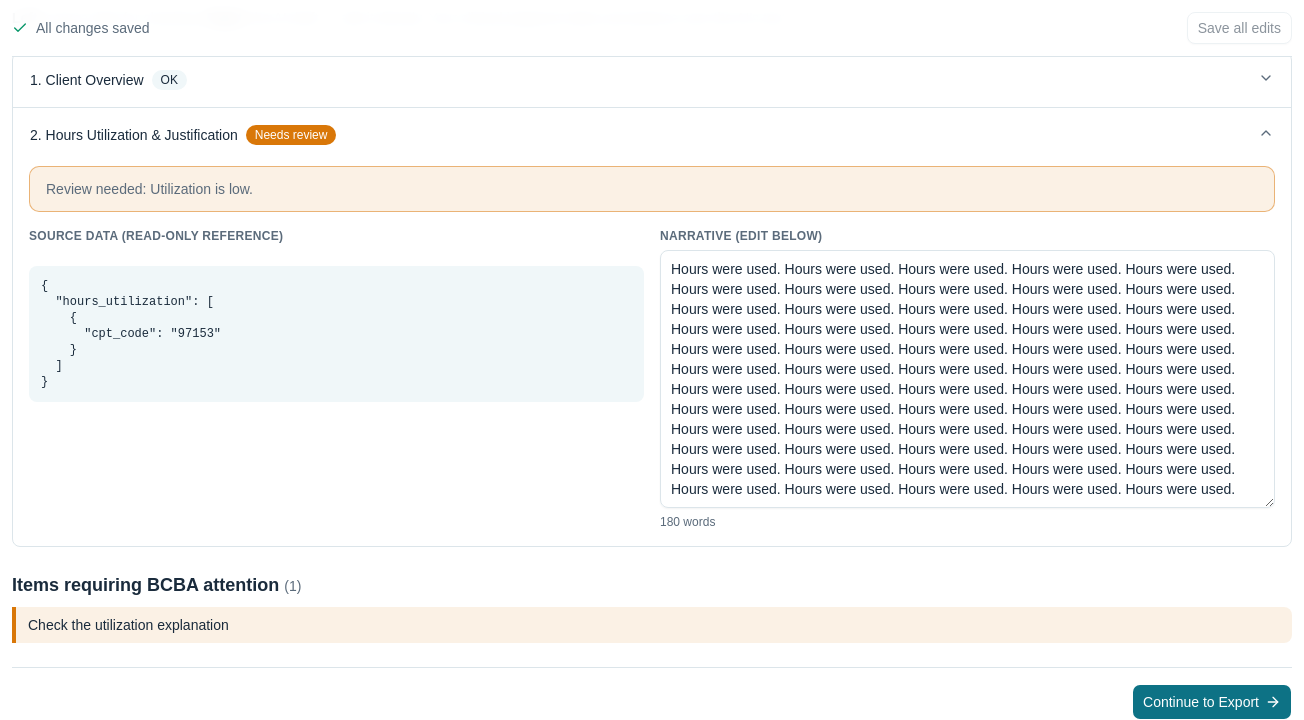
Generate page › saves edits to the narrative text automatically, all sections together
This screenshot has width=1304, height=720.
(page scrolled)
Step 1. Clear the text box named "Edit Hours Utilization & Justification" → point(968, 379), box [660,250,1275,508]
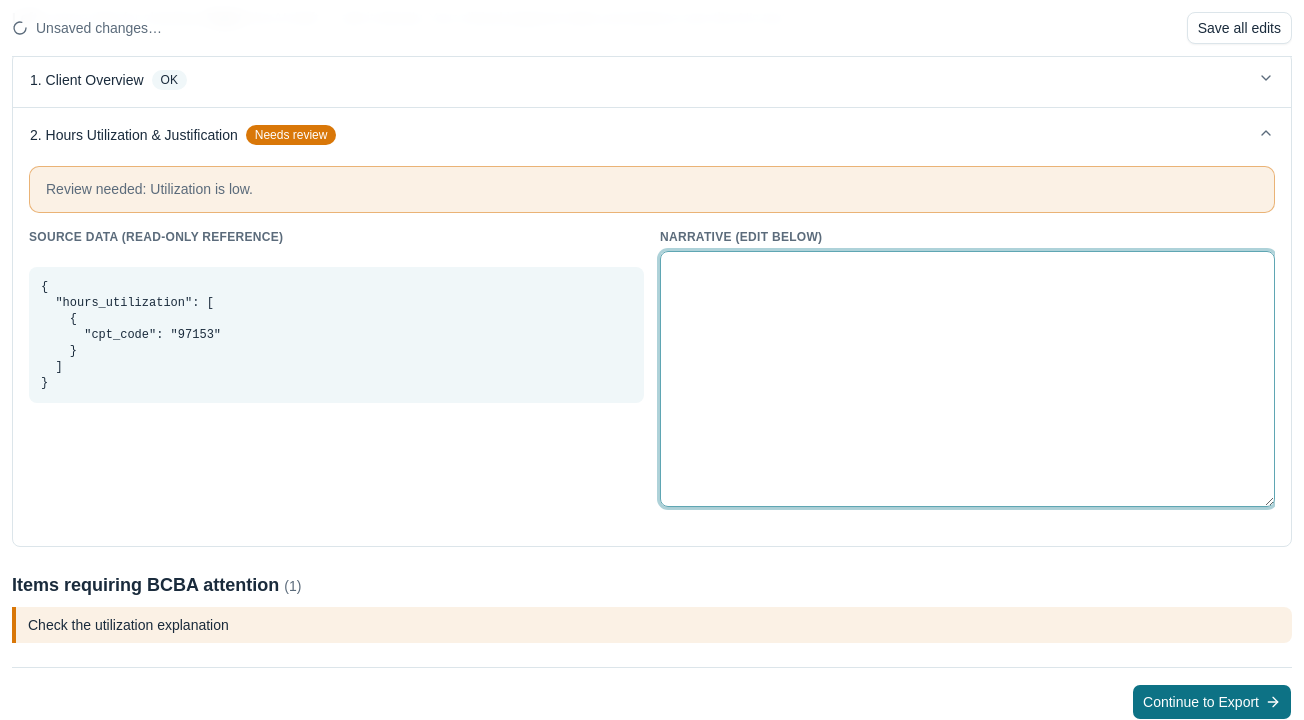
Step 2. Type "Rewritten by me." into the text box named "Edit Hours Utilization & Justification" → point(968, 379), box [660,251,1275,507]
Wait 1000 ms
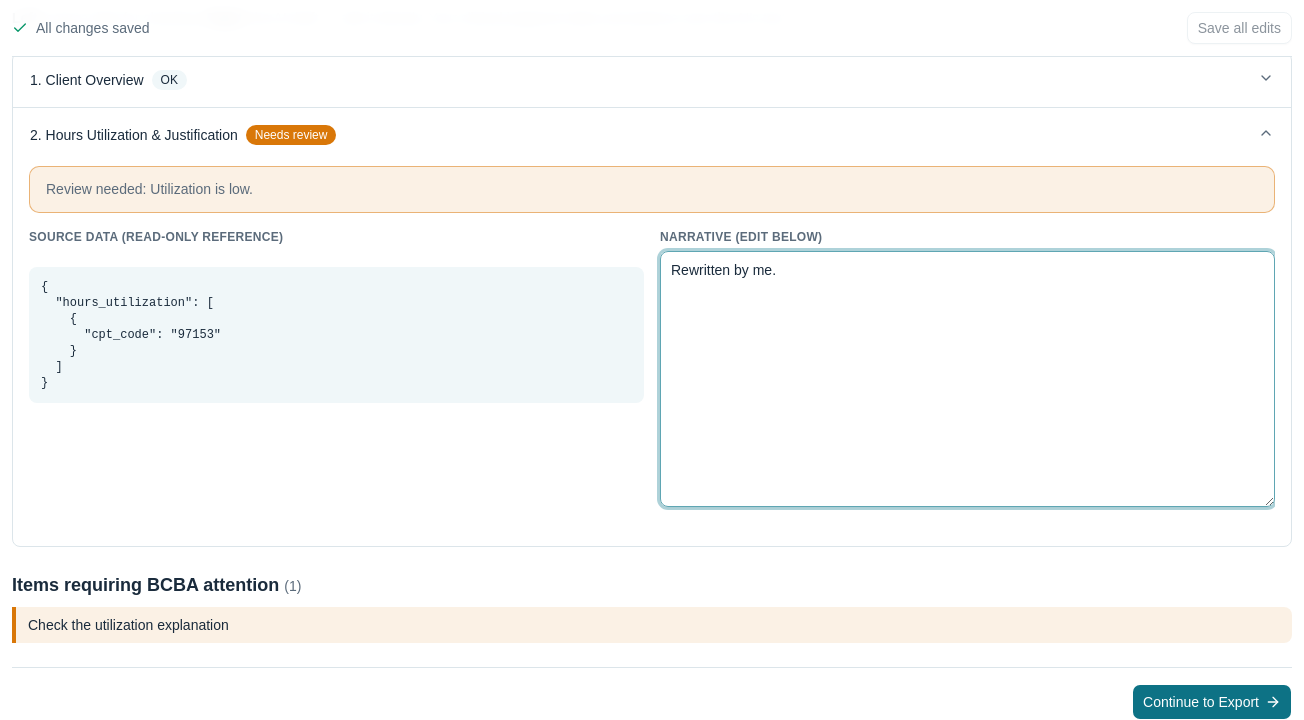
Check: the text "All changes saved" is shown, box [12,18,150,38]
